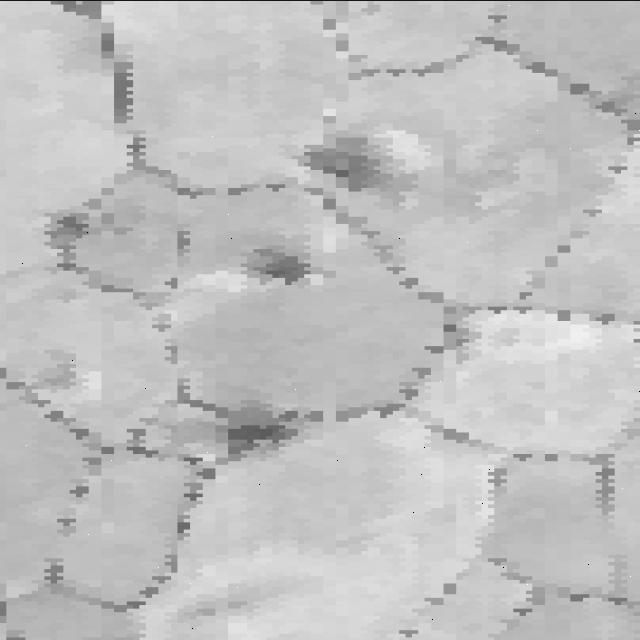good_void: (289, 125, 390, 192), (208, 412, 302, 459), (43, 201, 98, 273), (239, 242, 317, 280)
